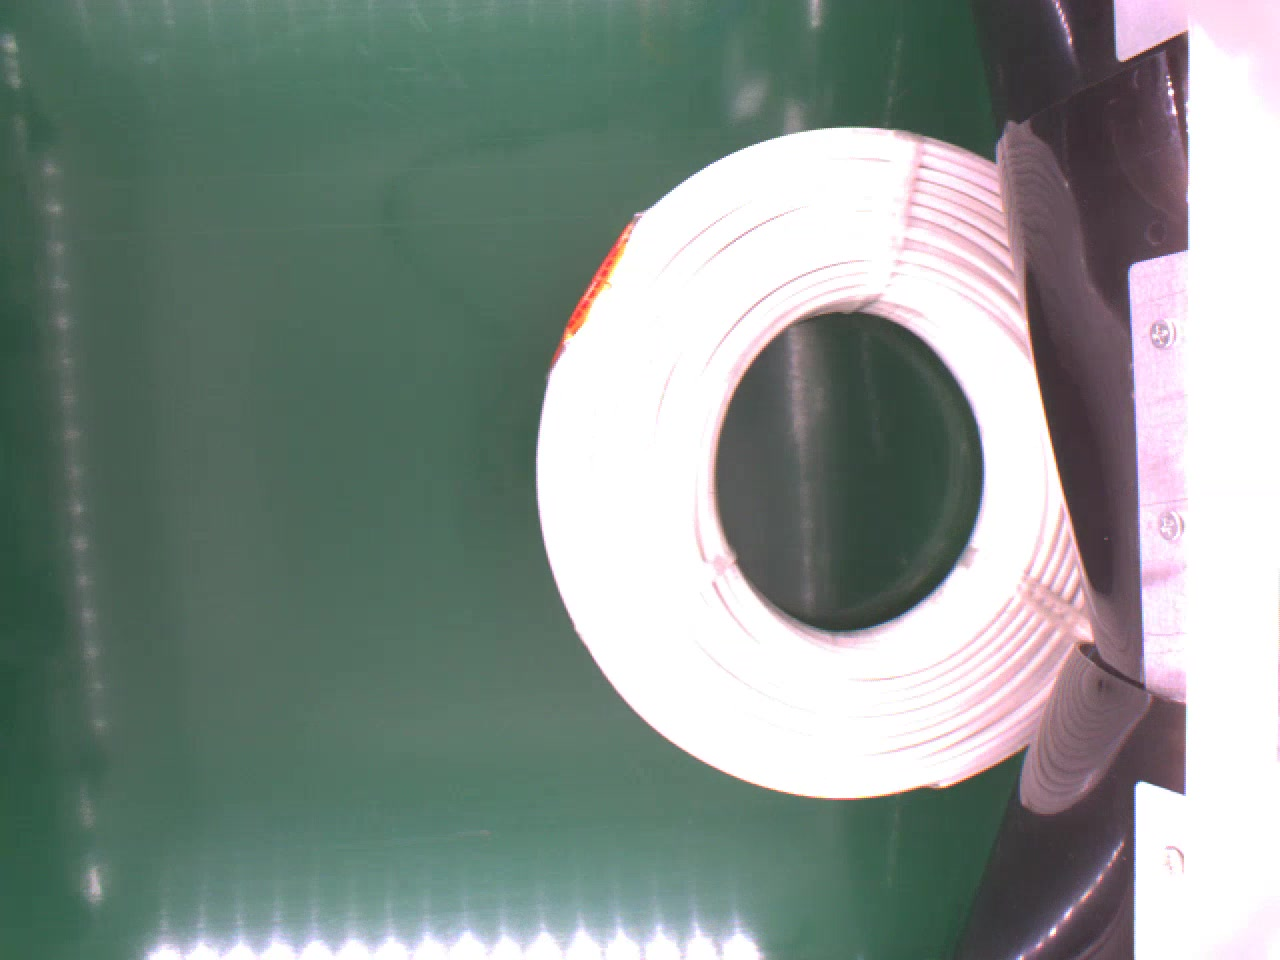white: (527, 123, 1091, 806)
